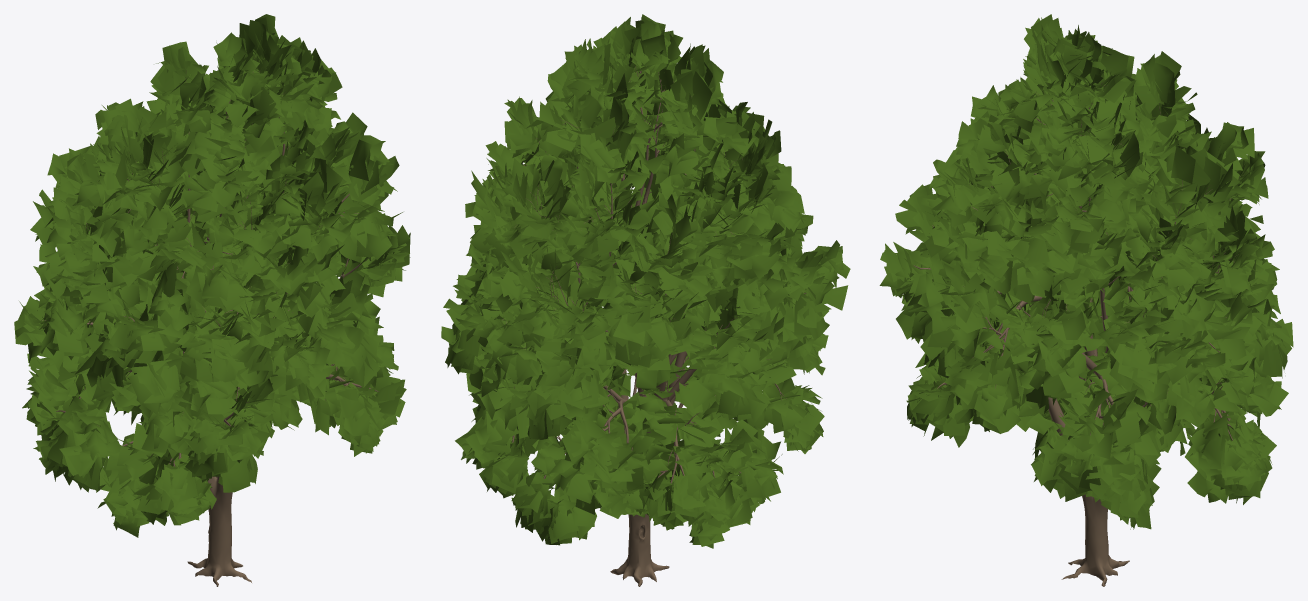
The model's file is tree-deciduous-oak.glb.
3 views of the same model, side by side, from view 1: azimuth 30°, elevation 25°; view 2: azimuth 150°, elevation 25°; view 3: azimuth 270°, elevation 25° (orthographic). The views are drawn at different scales.
Parts seen in each view (by area): view 1: leaves, tree; view 2: leaves, tree; view 3: leaves, tree.
Boxes of the visible parts, <box> form: leaves: <box>14,14,410,537</box>; tree: <box>41,58,378,586</box>; leaves: <box>441,14,850,548</box>; tree: <box>502,66,806,586</box>; leaves: <box>879,14,1293,529</box>; tree: <box>913,83,1243,586</box>.
Bounding box in the file's own units: 0.978 × 1.48 × 0.9883.
